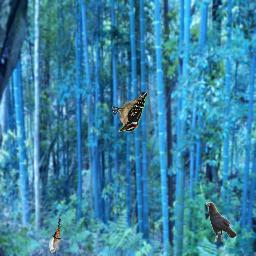Crow: (206, 202, 236, 242)
Cuckoo: (49, 213, 61, 253)
Woodpecker: (112, 92, 147, 132)
